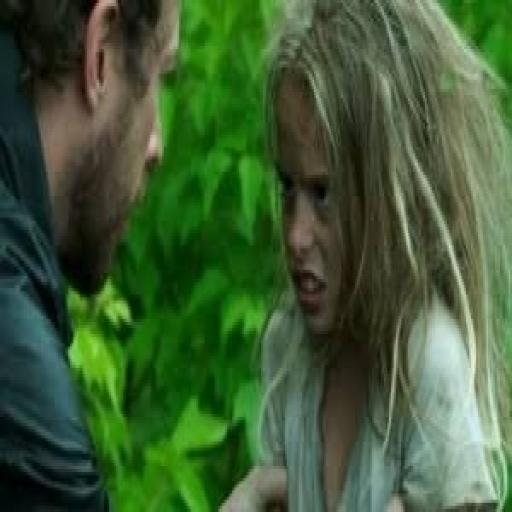sleeping: (217, 0, 510, 509), (0, 0, 184, 509)
